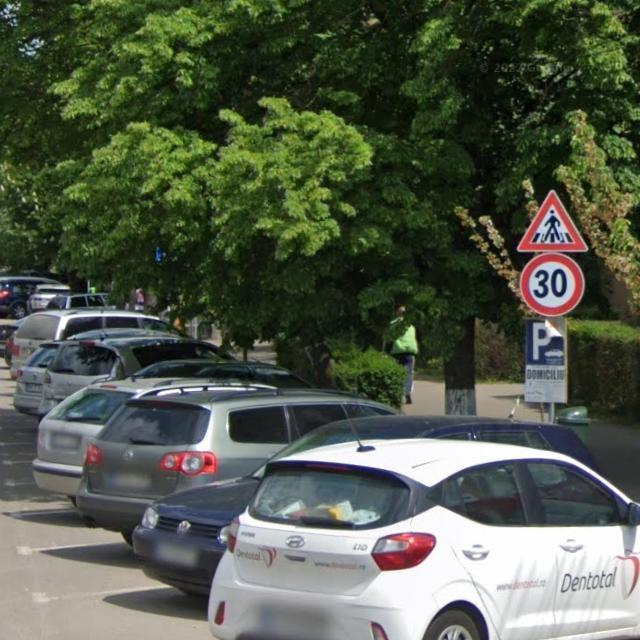forb_speed_over_30: (519, 254, 586, 317)
warn_crosswalk: (517, 190, 587, 253)
